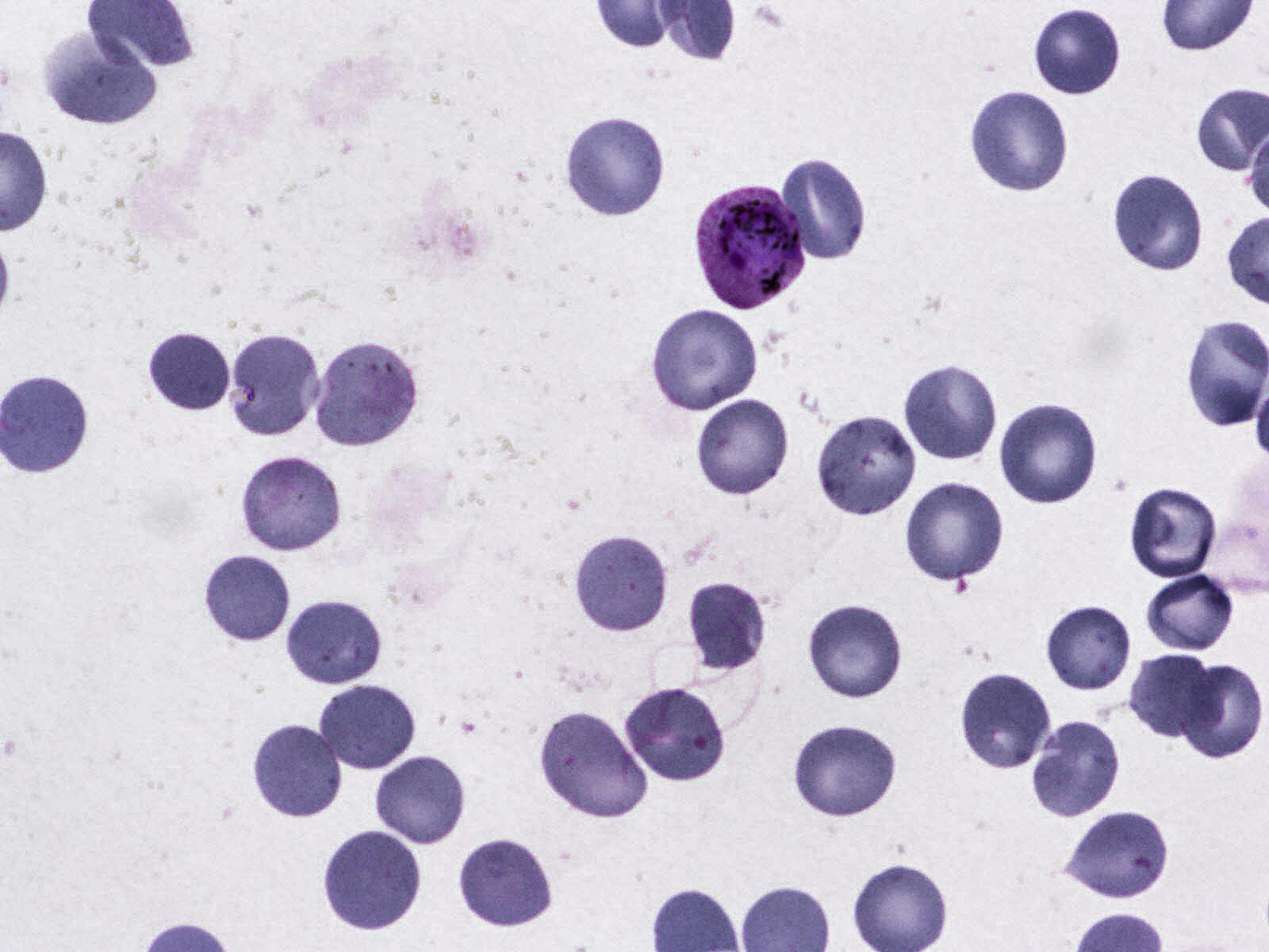Infected: (692, 185, 807, 308)
Uninfected: (311, 338, 420, 449), (815, 411, 923, 523), (646, 308, 759, 413), (965, 89, 1072, 196), (540, 716, 652, 817), (44, 25, 159, 123), (996, 401, 1098, 507), (321, 827, 424, 931), (903, 479, 1004, 585), (1061, 808, 1171, 905), (564, 117, 665, 222), (573, 531, 672, 638), (623, 686, 728, 785), (696, 396, 794, 502), (221, 333, 320, 436), (792, 723, 897, 819), (241, 456, 343, 553), (957, 668, 1050, 774), (456, 835, 558, 931), (807, 603, 905, 702), (776, 155, 866, 262), (900, 364, 997, 463), (1111, 173, 1205, 274), (283, 596, 385, 689), (1029, 717, 1122, 818), (252, 721, 344, 820), (316, 682, 416, 772), (370, 752, 464, 847), (1030, 6, 1126, 98), (1127, 647, 1221, 740), (1176, 664, 1266, 761), (203, 550, 294, 644), (1129, 487, 1217, 584), (1144, 568, 1240, 653), (683, 582, 769, 674), (1044, 605, 1133, 692), (146, 332, 231, 411)
